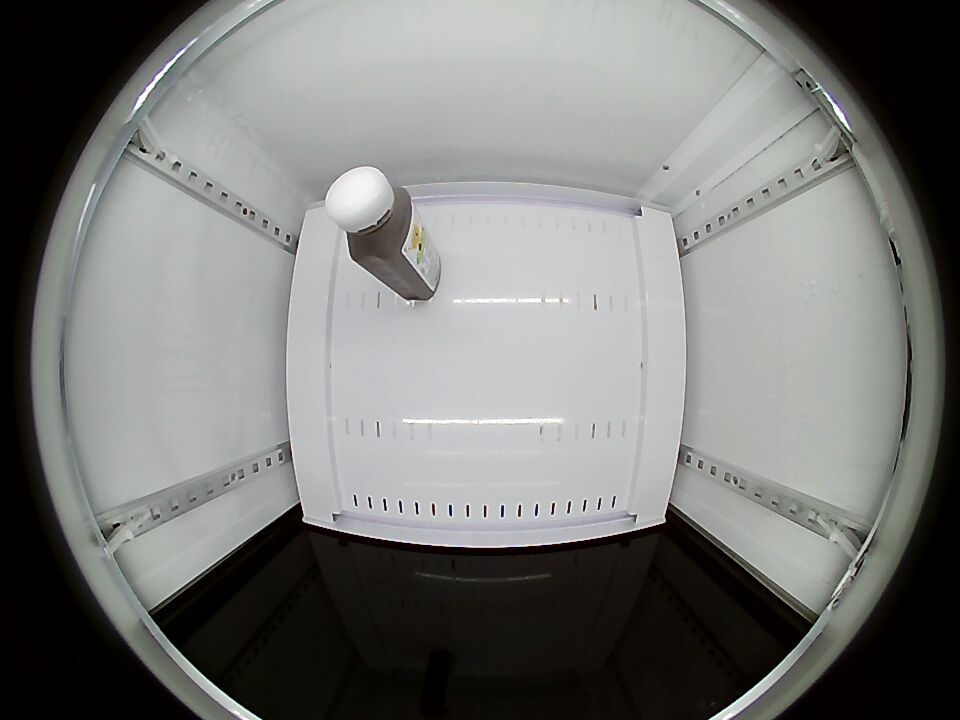youyanggudong: (325, 166, 418, 265)
